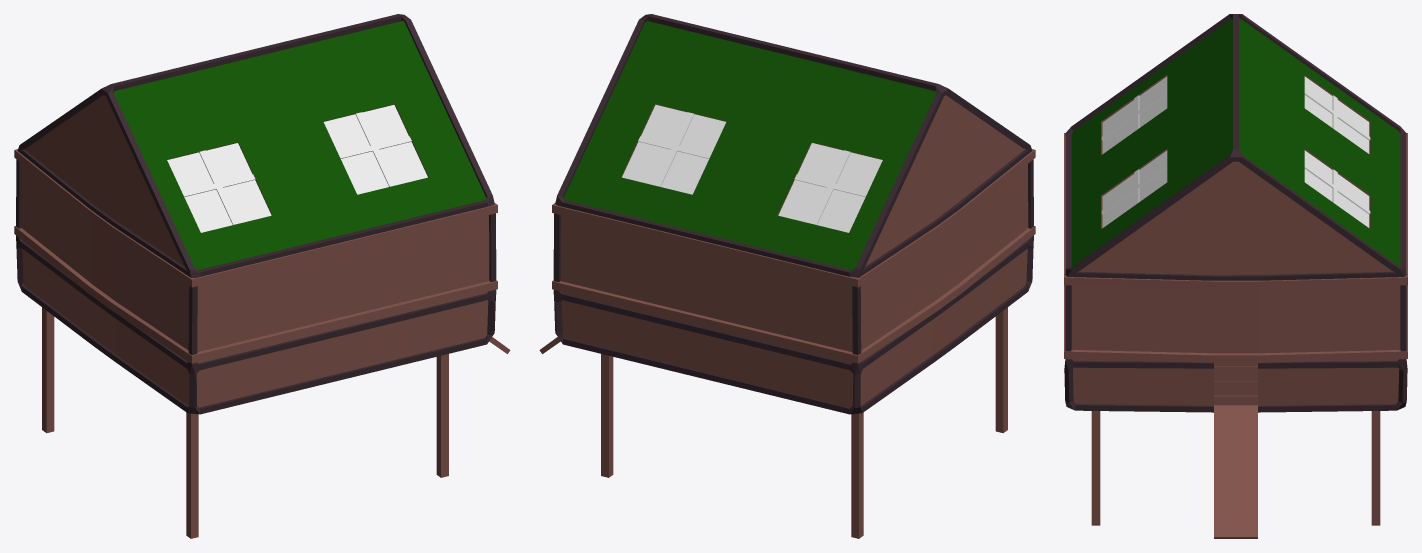
File: coop.fbx
3 views of the same model, side by side, from view 1: azimuth 30°, elevation 25°; view 2: azimuth 150°, elevation 25°; view 3: azimuth 270°, elevation 25° (orthographic). The views are drawn at different scales.
Parts seen in each view (by area): view 1: main, Plane.004, windows, Plane.003, pillars, Plane.002; view 2: main, Plane.004, windows, Plane.003, pillars, Plane.002; view 3: main, Plane.004, windows, kladka, Plane.003, Plane.002, pillars, drzwi.
Part boxes in pixels (bbox=[...]): main: bbox=[21, 21, 489, 407]; Plane.004: bbox=[16, 14, 496, 414]; windows: bbox=[167, 105, 427, 232]; Plane.003: bbox=[14, 226, 497, 363]; pillars: bbox=[42, 307, 448, 538]; Plane.002: bbox=[14, 149, 497, 287]; main: bbox=[560, 21, 1028, 407]; Plane.004: bbox=[553, 14, 1033, 414]; windows: bbox=[622, 105, 882, 232]; Plane.003: bbox=[552, 226, 1035, 363]; pillars: bbox=[601, 307, 1007, 538]; Plane.002: bbox=[552, 149, 1035, 287]; main: bbox=[1071, 18, 1400, 405]; Plane.004: bbox=[1064, 14, 1407, 412]; windows: bbox=[1101, 76, 1370, 227]; kladka: bbox=[1214, 405, 1257, 538]; Plane.003: bbox=[1064, 285, 1407, 362]; Plane.002: bbox=[1064, 133, 1407, 288]; pillars: bbox=[1091, 411, 1380, 525]; drzwi: bbox=[1214, 363, 1257, 405].
Bounding box in the file's own units: 638 × 612 × 492.
